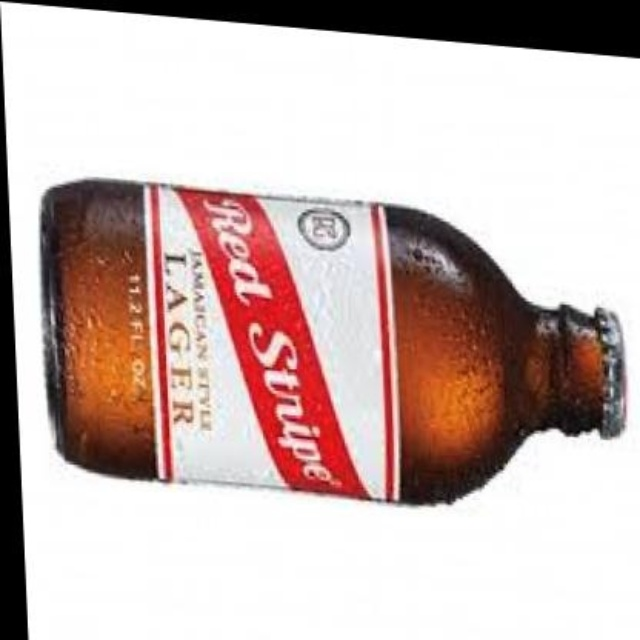trash: (42, 180, 625, 502)
